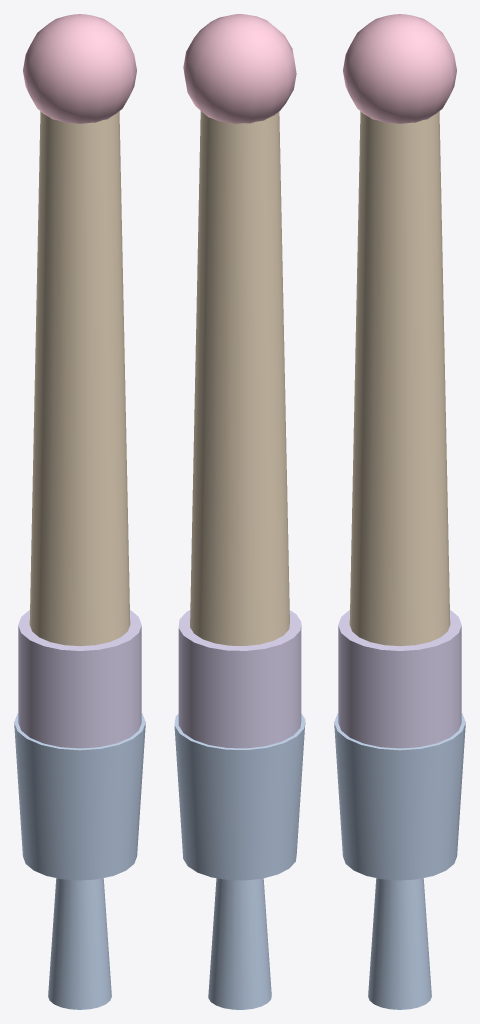
Rendered from Tool_Brush.fbx.
3 renders of one model, left to right at view 1: azimuth 90°, elevation 25°; view 2: azimuth 150°, elevation 25°; view 3: azimuth 270°, elevation 25°, orthographic.
Visible parts, largest first — view 1: Tool_Brush; view 2: Tool_Brush; view 3: Tool_Brush.
Part boxes in pixels (x1,y1,x2,y2): Tool_Brush: [14, 14, 145, 1009]; Tool_Brush: [174, 14, 305, 1009]; Tool_Brush: [334, 14, 465, 1009].
Size of the model in its own units: 0.0196 by 0.1605 by 0.0196.
